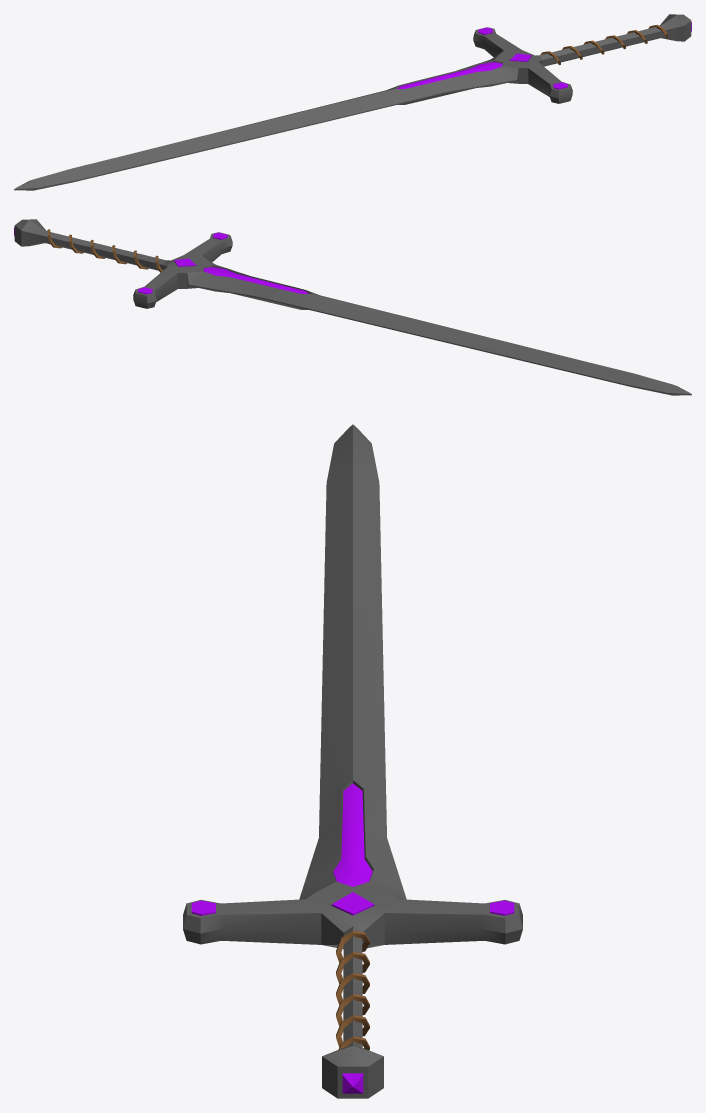
File: Basic_low-poly_dark_sword.glb
3 views of the same model, one above another, from view 1: azimuth 30°, elevation 25°; view 2: azimuth 150°, elevation 25°; view 3: azimuth 270°, elevation 25° (orthographic). The views are drawn at different scales.
Visible parts, largest first — view 1: Cube_metall_0, Cube.001_emis_0, Plane_Material.002_0; view 2: Cube_metall_0, Cube.001_emis_0, Plane_Material.002_0; view 3: Cube_metall_0, Cube.001_emis_0, Plane_Material.002_0.
Part boxes in pixels (bbox=[...]): Cube_metall_0: bbox=[14, 14, 691, 190]; Cube.001_emis_0: bbox=[397, 62, 502, 88]; Plane_Material.002_0: bbox=[540, 24, 668, 64]; Cube_metall_0: bbox=[14, 219, 691, 395]; Cube.001_emis_0: bbox=[203, 267, 308, 293]; Plane_Material.002_0: bbox=[47, 229, 162, 272]; Cube_metall_0: bbox=[183, 424, 522, 1098]; Cube.001_emis_0: bbox=[333, 783, 372, 886]; Plane_Material.002_0: bbox=[336, 930, 369, 1050].
Bounding box in the file's own units: 25.18 × 0.9417 × 5.47.
